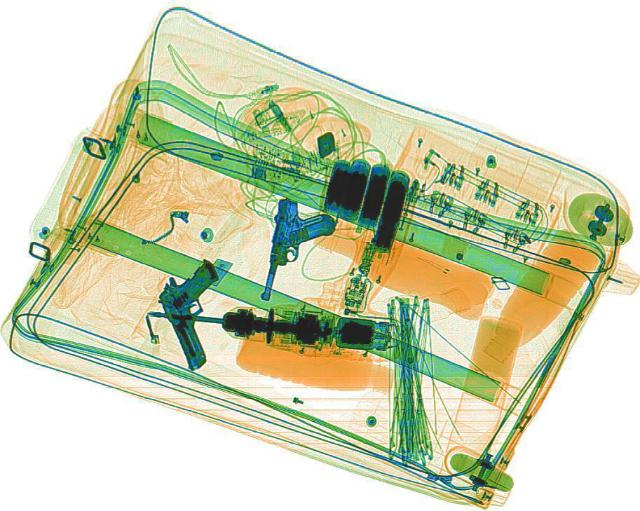Gun: (142, 258, 258, 369), (252, 195, 338, 306)
